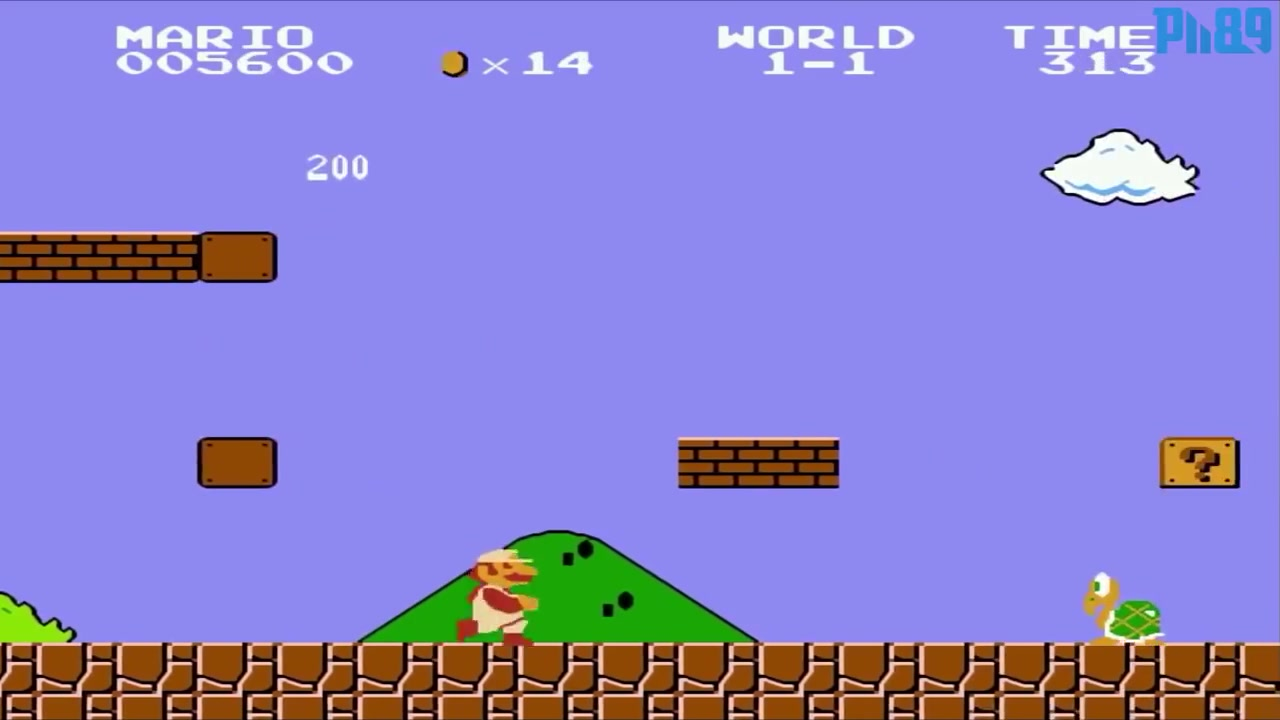mario: (452, 546, 539, 645)
